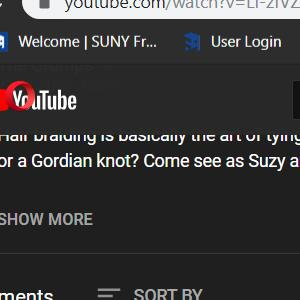opera: (6, 80, 35, 112)
